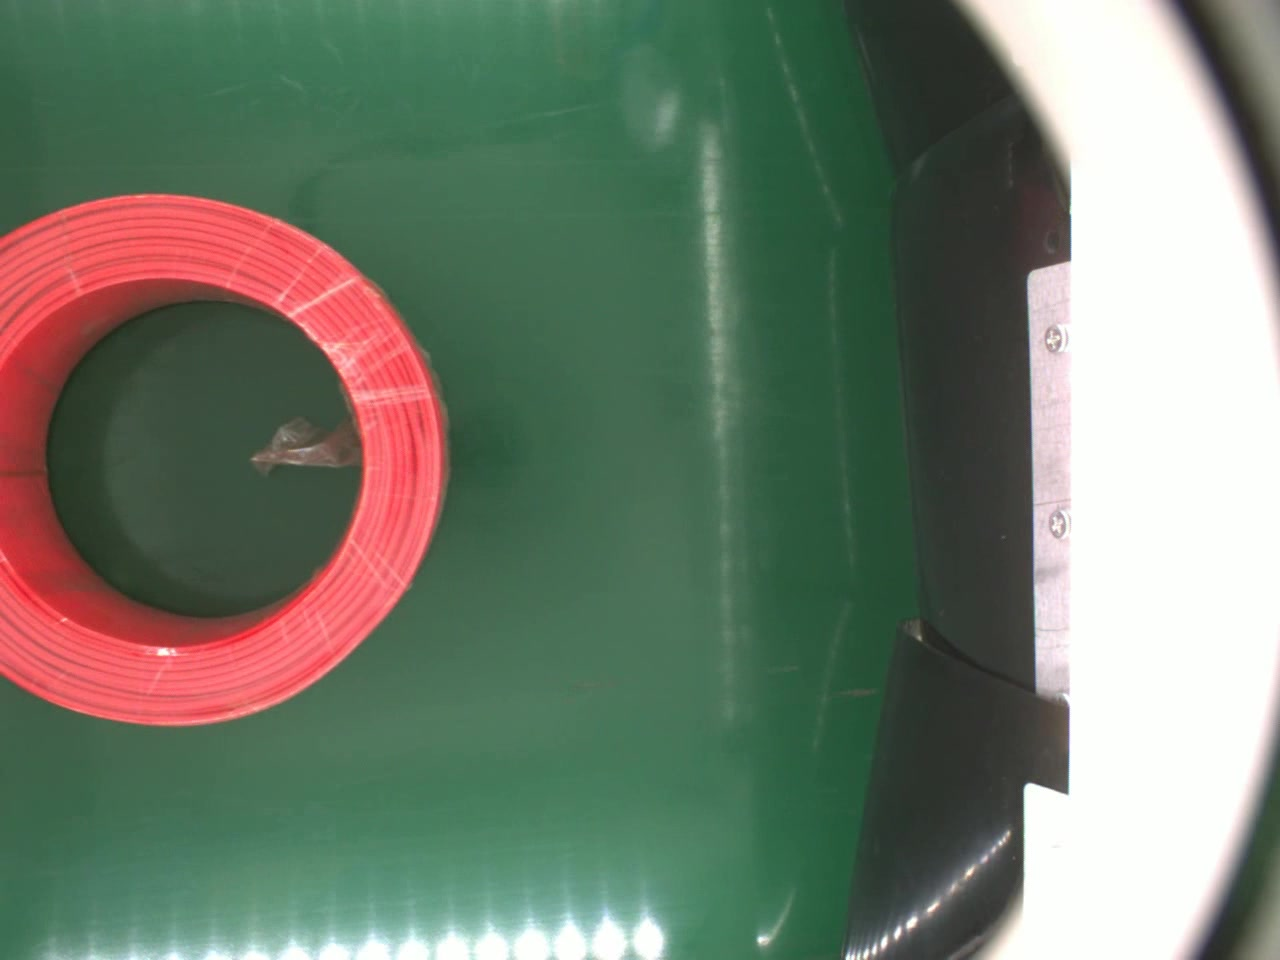red: (0, 189, 455, 729)
